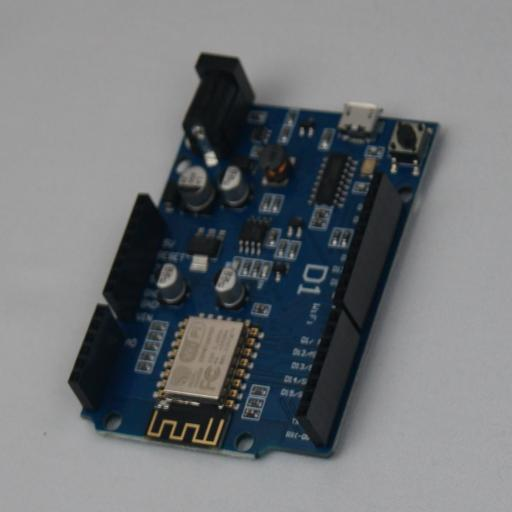Arduino Uno WiFi Shield: (68, 53, 442, 460)
